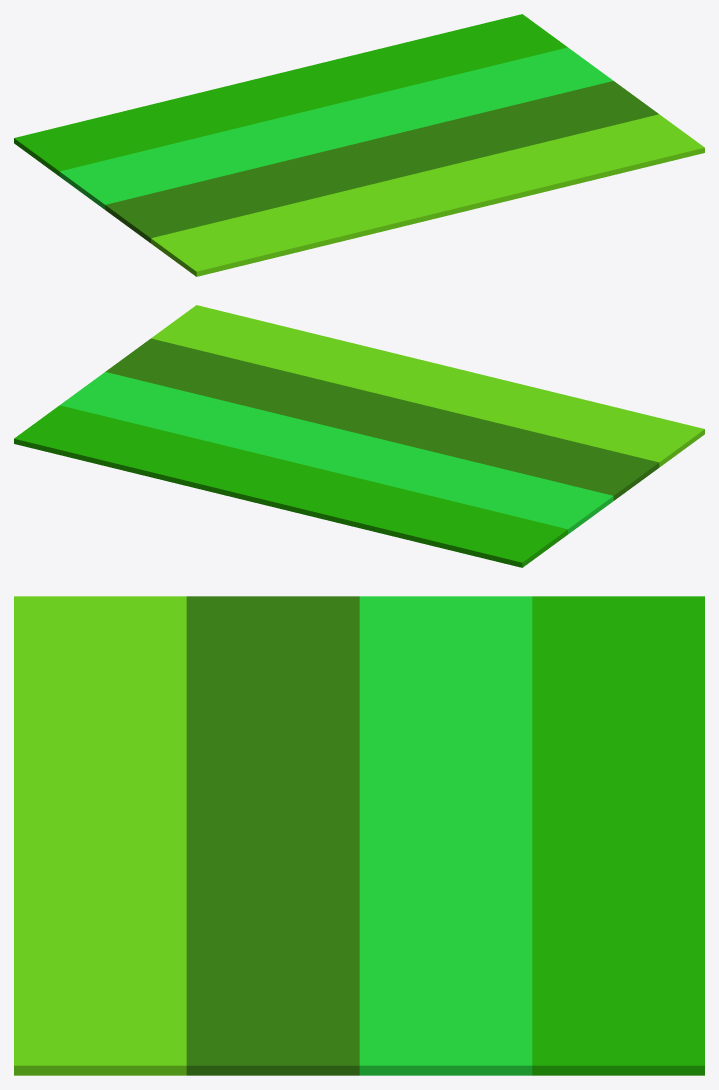
The model's file is yesilzemin.fbx.
3 views of the same model, one above another, from view 1: azimuth 30°, elevation 25°; view 2: azimuth 150°, elevation 25°; view 3: azimuth 270°, elevation 25° (orthographic). The views are drawn at different scales.
Parts seen in each view (by area): view 1: Cube.001, Cube.003, Cube, Cube.002; view 2: Cube, Cube.002, Cube.001, Cube.003; view 3: Cube.002, Cube.003, Cube, Cube.001.
Boxes of the visible parts, left/top/right/bottom form: Cube.001: left=151, top=114, right=704, bottom=276; Cube.003: left=59, top=47, right=613, bottom=209; Cube: left=14, top=14, right=567, bottom=176; Cube.002: left=105, top=81, right=658, bottom=243; Cube: left=14, top=405, right=567, bottom=567; Cube.002: left=105, top=338, right=659, bottom=500; Cube.001: left=151, top=305, right=704, bottom=467; Cube.003: left=60, top=372, right=613, bottom=534; Cube.002: left=186, top=596, right=359, bottom=1075; Cube.003: left=359, top=596, right=532, bottom=1075; Cube: left=532, top=596, right=704, bottom=1075; Cube.001: left=14, top=596, right=186, bottom=1075.
Size of the model in its own units: 1773 by 17.47 by 1102.
